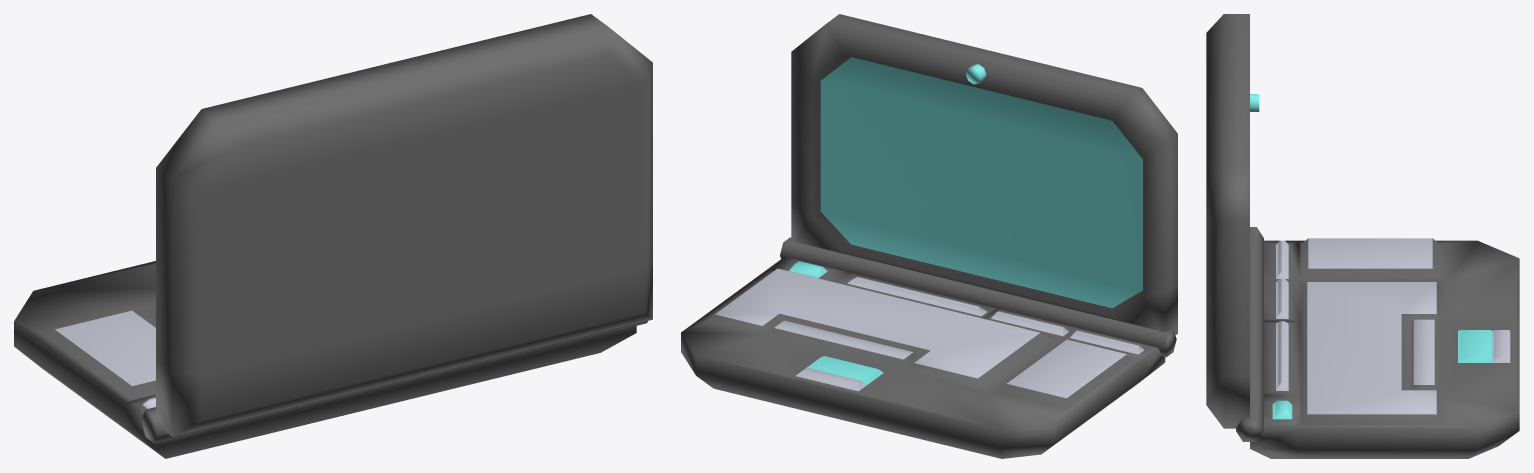
Rendered from laptop_01.glb.
The picture shows the model from 3 angles, left to right: view 1: azimuth 30°, elevation 25°; view 2: azimuth 150°, elevation 25°; view 3: azimuth 270°, elevation 25°; orthographic projection. The views are drawn at different scales.
Visible parts, largest first — view 1: mesh_laptop_01; view 2: mesh_laptop_01; view 3: mesh_laptop_01.
Boxes of the visible parts, bbox=[...] form: mesh_laptop_01: bbox=[14, 14, 652, 458]; mesh_laptop_01: bbox=[681, 14, 1177, 458]; mesh_laptop_01: bbox=[1206, 14, 1519, 458].
Size of the model in its own units: 0.5885 by 0.404 by 0.404.
